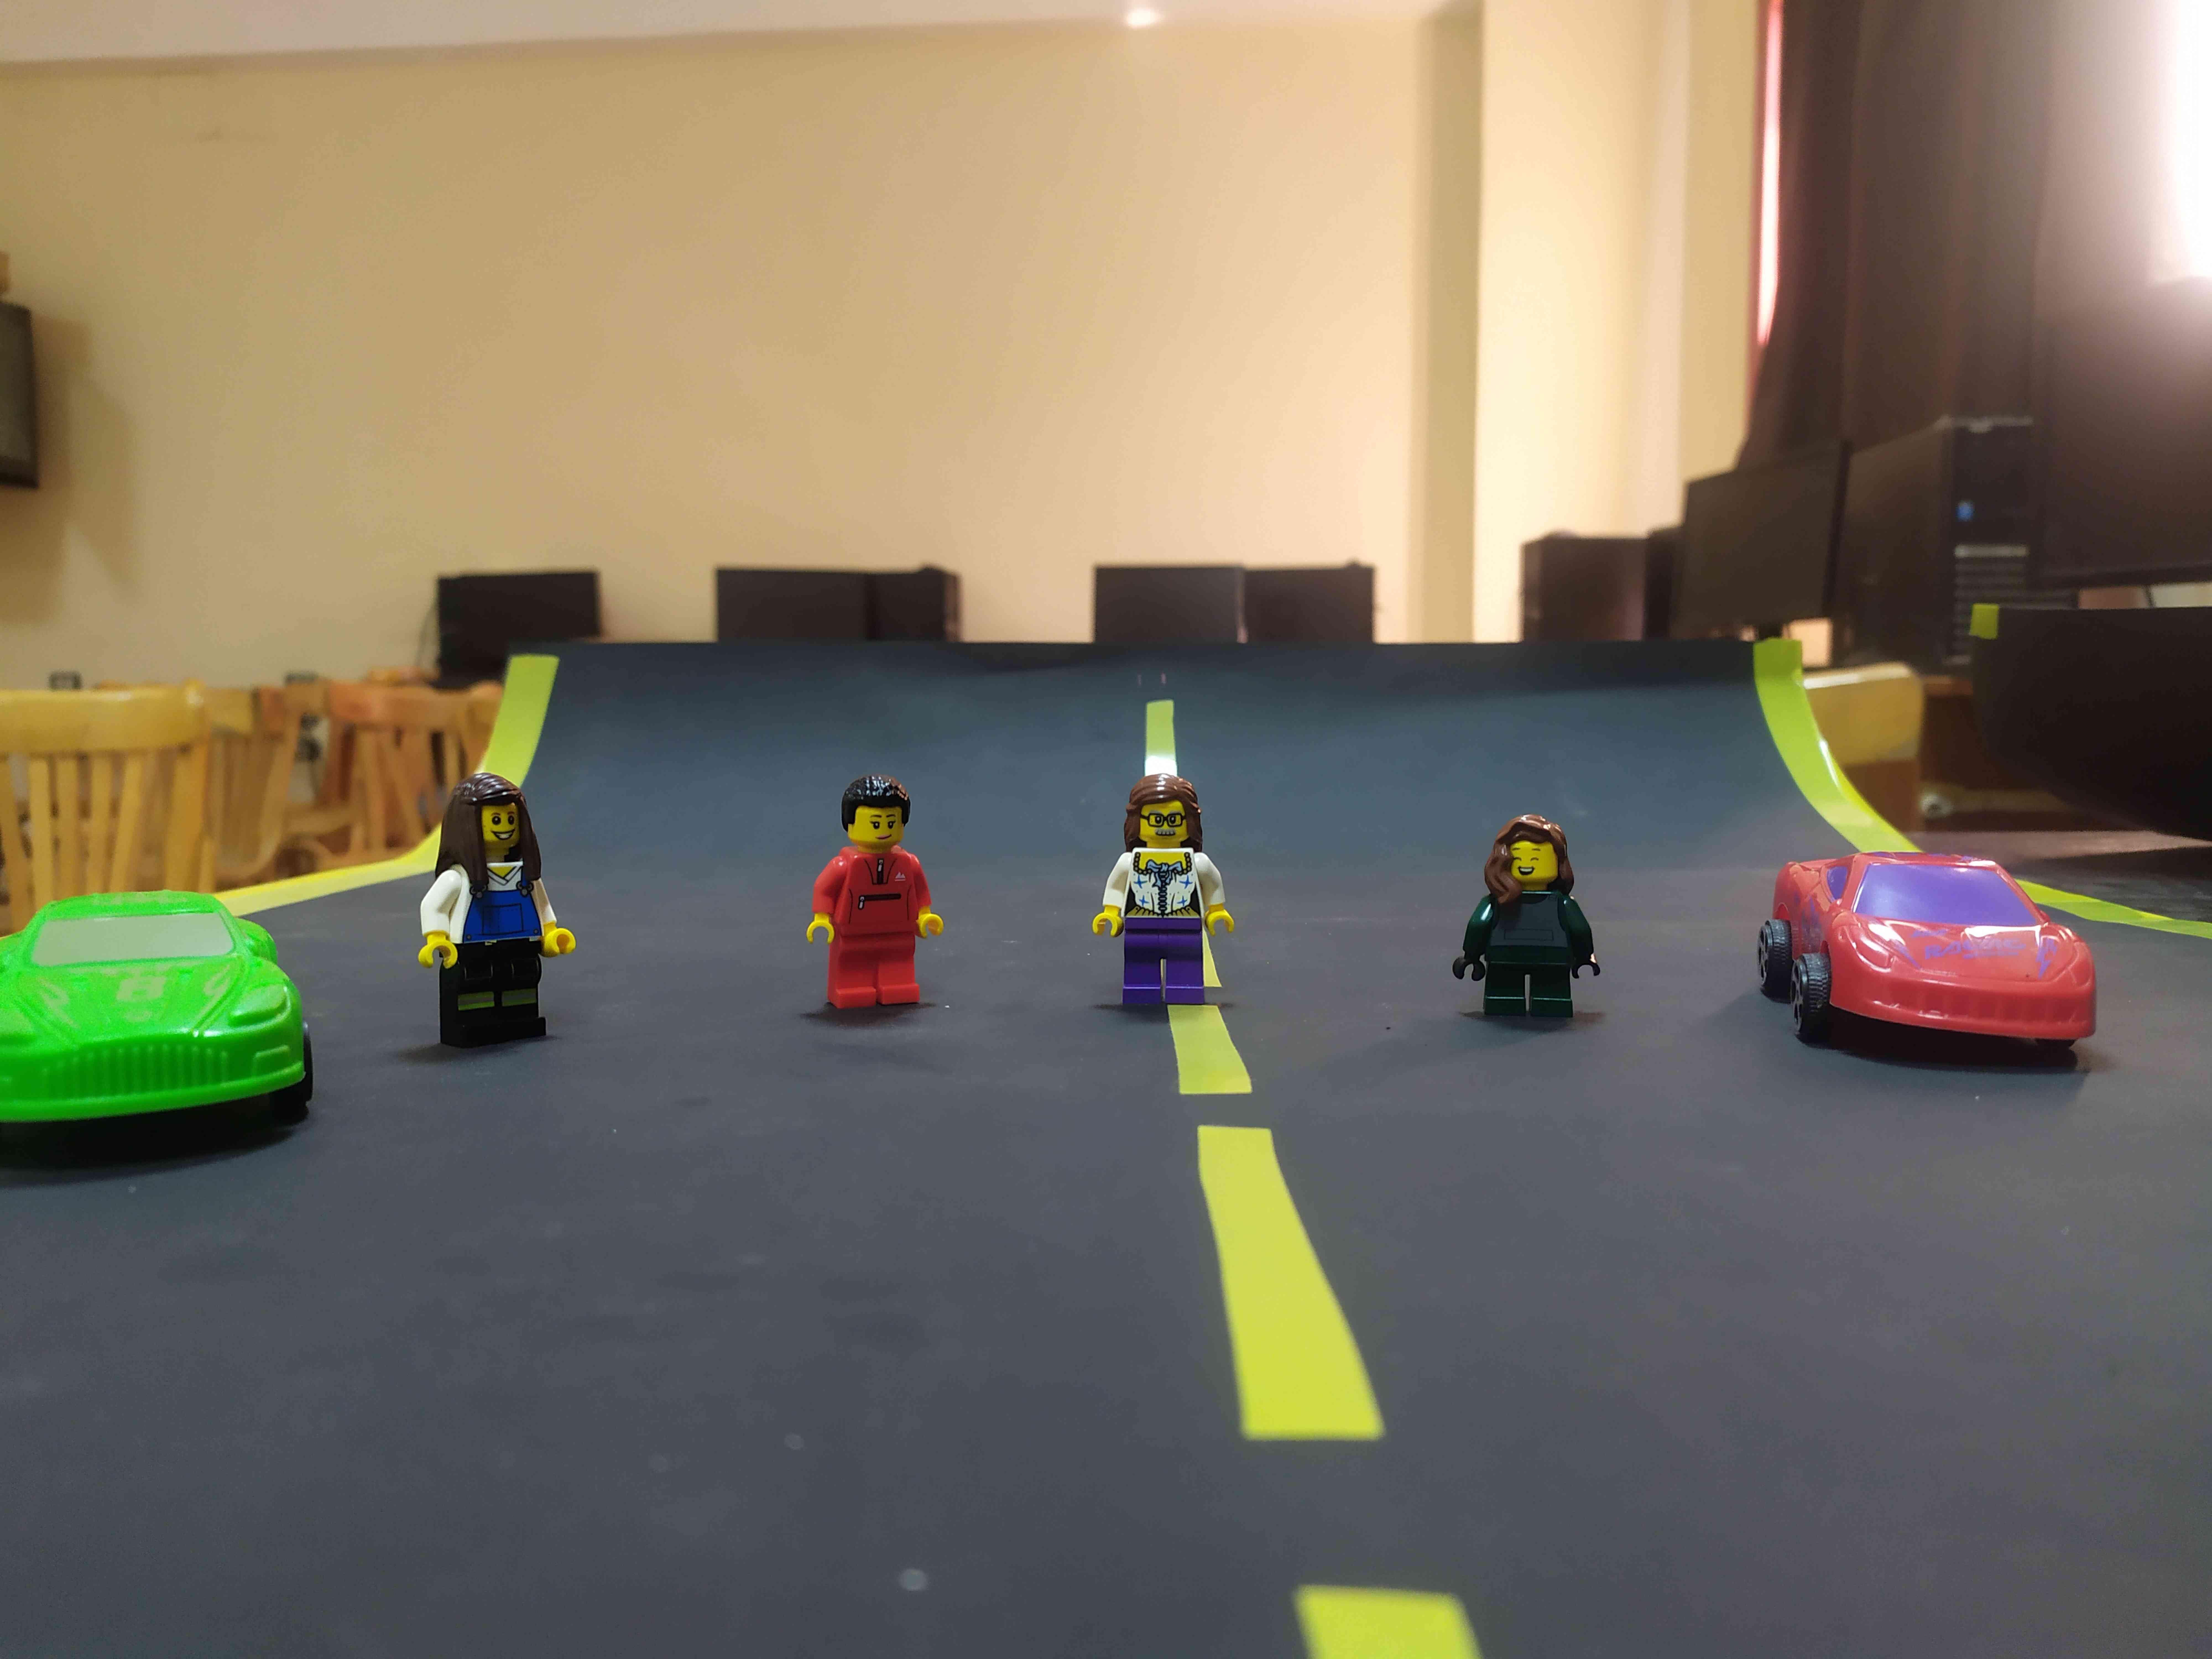car: (0, 863, 301, 1175), (1772, 841, 2110, 1073)
person: (401, 769, 572, 1040), (1076, 785, 1258, 1029), (782, 796, 959, 1023), (1452, 818, 1606, 1045)
